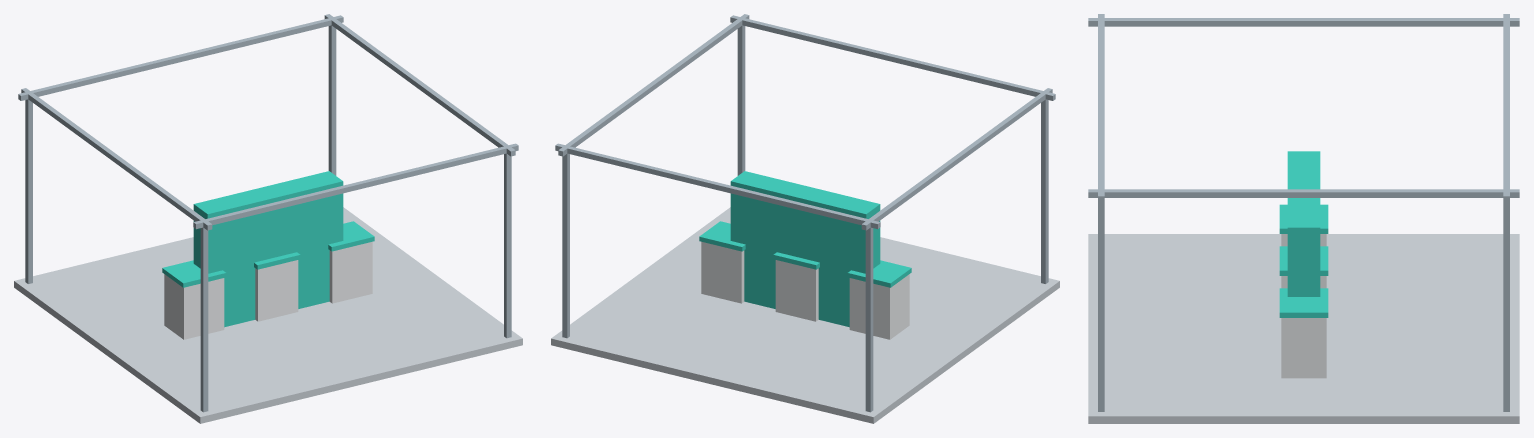
3 renders of one model, left to right at view 1: azimuth 30°, elevation 25°; view 2: azimuth 150°, elevation 25°; view 3: azimuth 270°, elevation 25°, orthographic. The views are drawn at different scales.
Visible parts, largest first — view 1: Exhibition Booth Concept; view 2: Exhibition Booth Concept; view 3: Exhibition Booth Concept.
Part boxes in pixels (x1,y1,x2,y2): Exhibition Booth Concept: [14, 14, 522, 423]; Exhibition Booth Concept: [551, 14, 1059, 423]; Exhibition Booth Concept: [1088, 14, 1519, 423].
Size of the model in its own units: 6 by 3.49 by 6.
